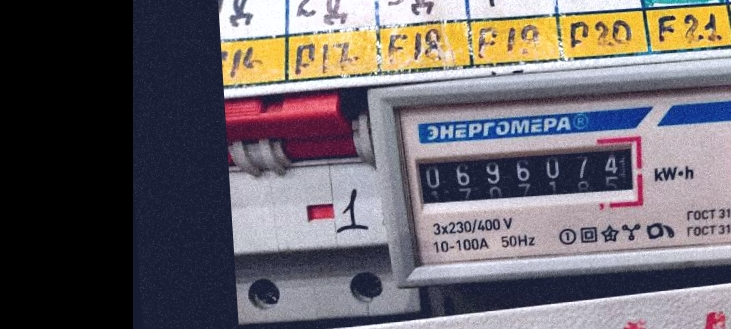0: (422, 163, 443, 188), (544, 153, 561, 179)
4: (602, 150, 619, 173)
5: (604, 175, 621, 191)
6: (515, 155, 533, 182), (454, 161, 473, 186)
7: (574, 152, 592, 178)
9: (484, 158, 502, 185)
screen: (405, 131, 649, 215)
